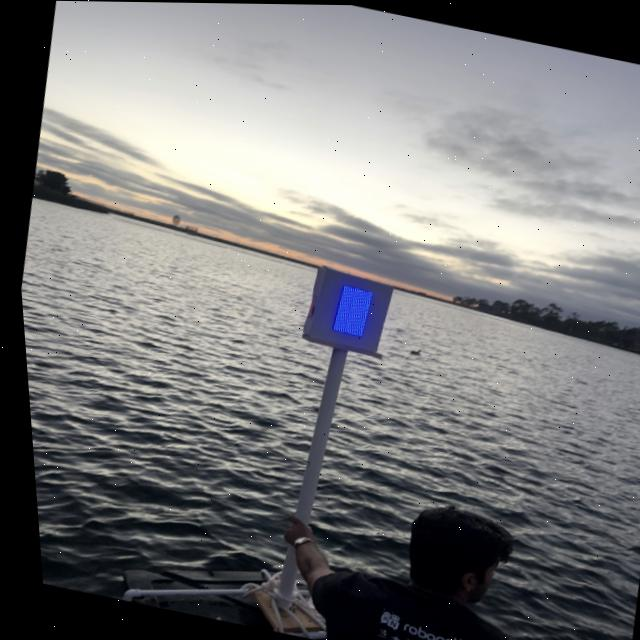led: (300, 266, 389, 355)
